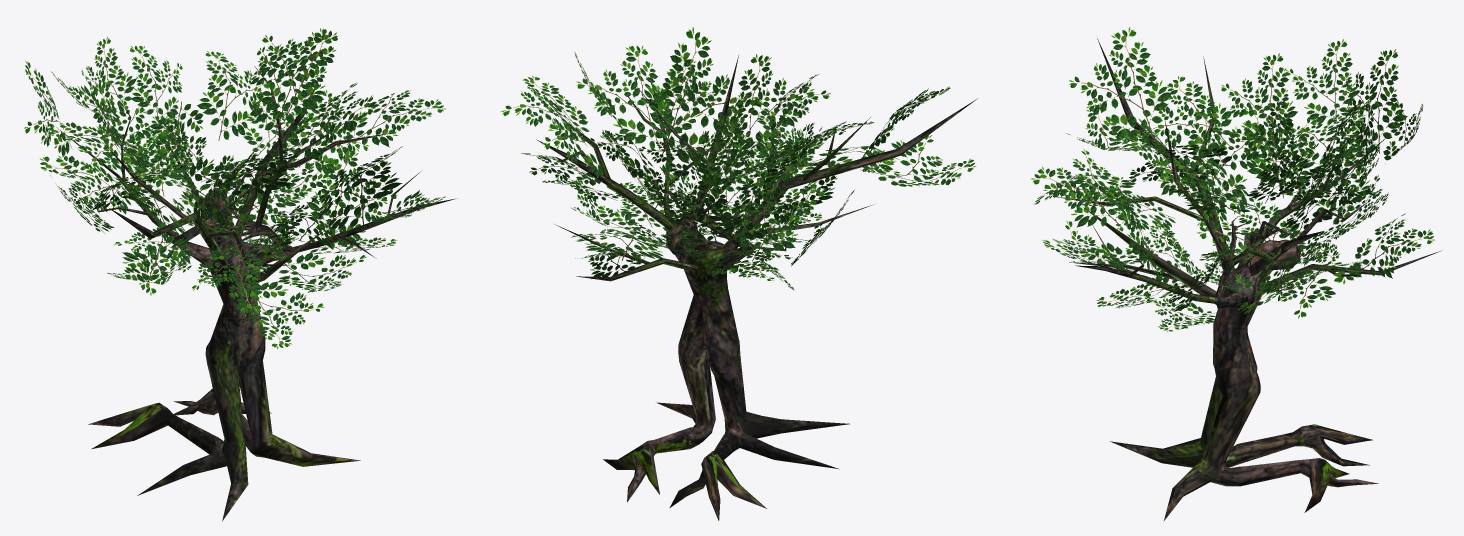
The model's file is tree_hitogata5_3.fbx.
3 renders of one model, left to right at view 1: azimuth 30°, elevation 25°; view 2: azimuth 150°, elevation 25°; view 3: azimuth 270°, elevation 25°, orthographic.
Visible parts, largest first — view 1: tree_hitogata5_3; view 2: tree_hitogata5_3; view 3: tree_hitogata5_3.
Part boxes in pixels (bbox=[...]): tree_hitogata5_3: bbox=[24, 28, 457, 521]; tree_hitogata5_3: bbox=[500, 27, 977, 520]; tree_hitogata5_3: bbox=[1030, 27, 1441, 521].
Size of the model in its own units: 15.73 by 14.46 by 14.21.
